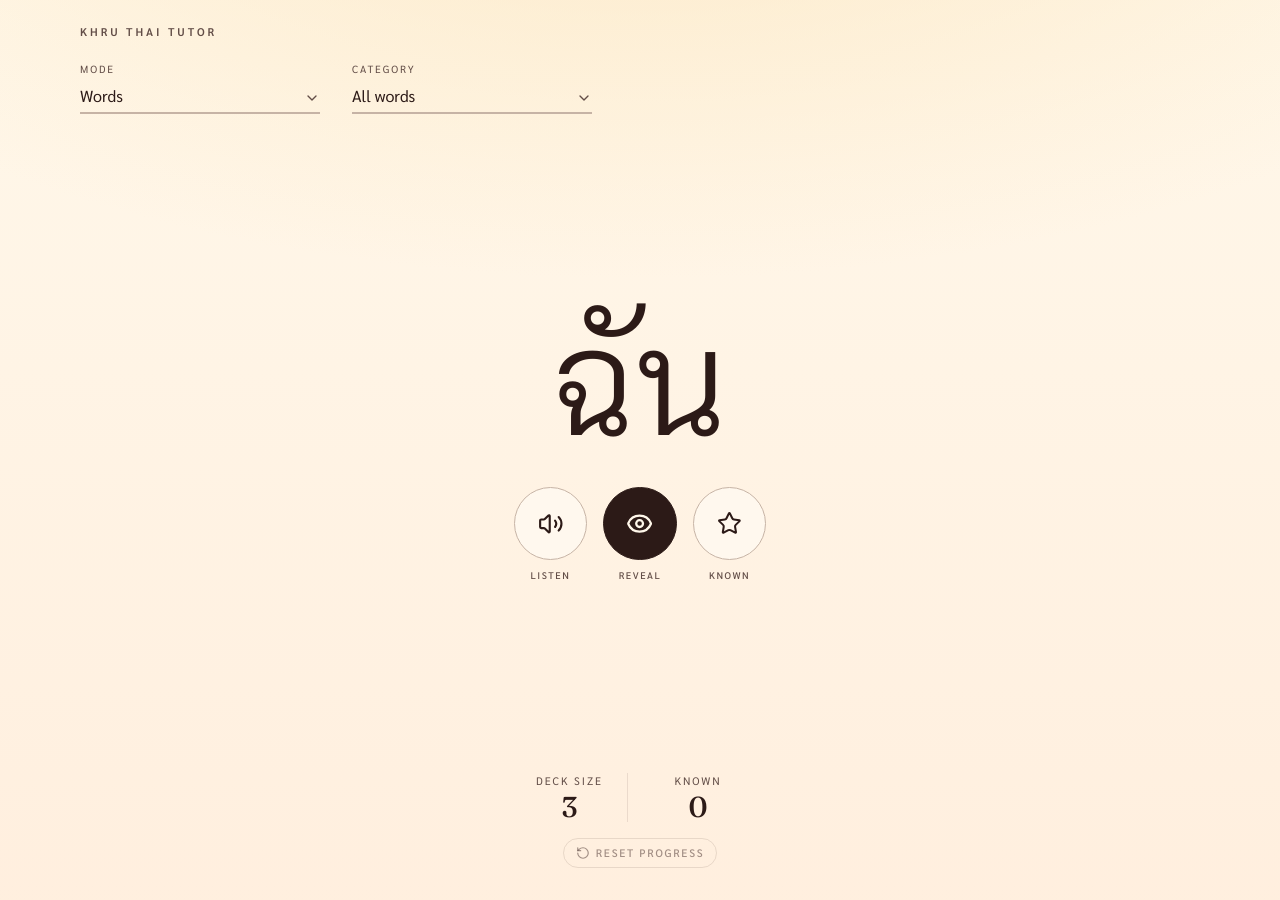
Test: App › keeps progress isolated between study modes
The width and height of the screenshot is (1280, 900).
Click the button named "mark as mastered" at (730, 524), box x1=693 y1=487 x2=766 y2=560
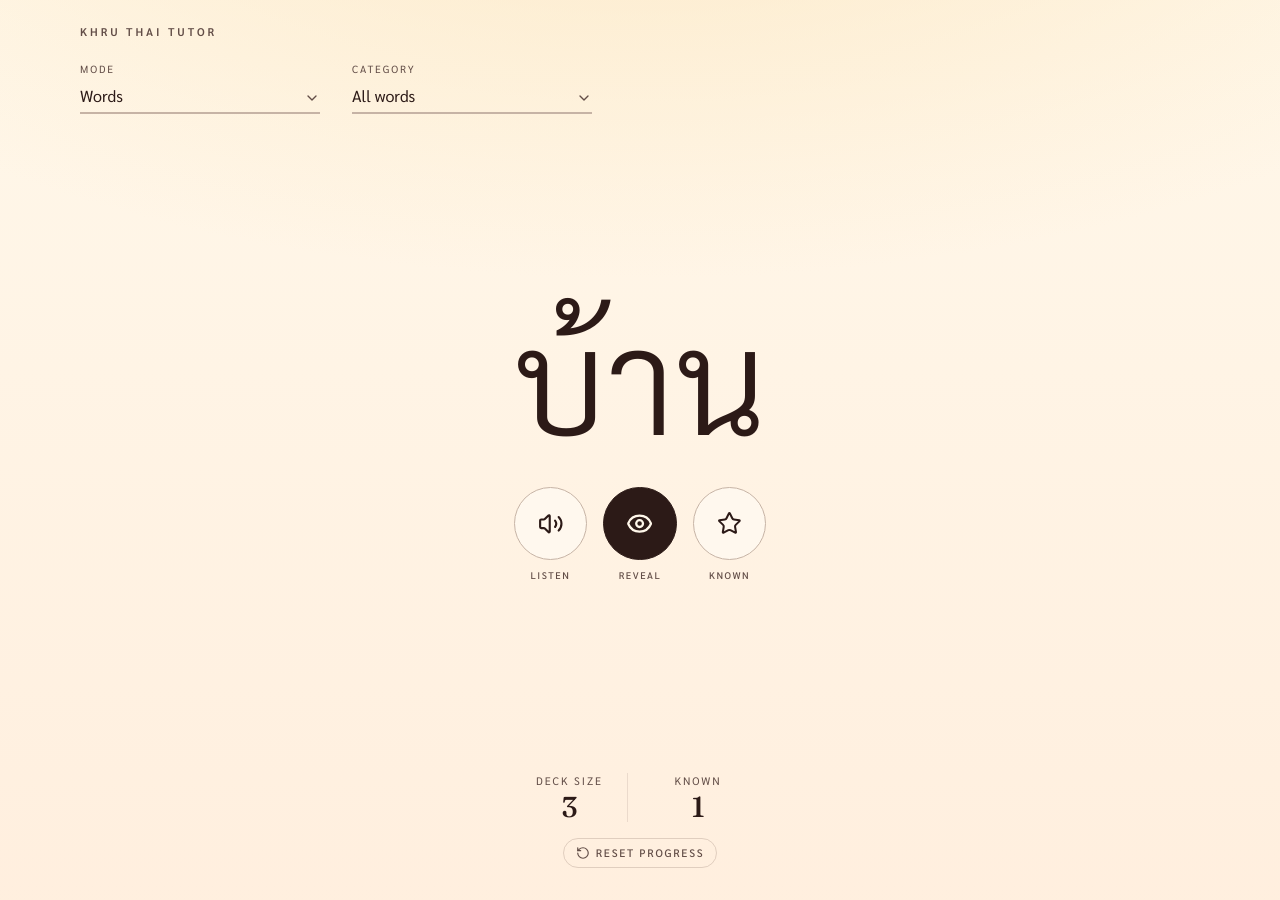
Check: the text with test id "known-count" reads "1", box x1=691 y1=789 x2=705 y2=824
Select "Conversation" in the dropdown named "study mode" at (200, 97), box x1=80 y1=80 x2=320 y2=114
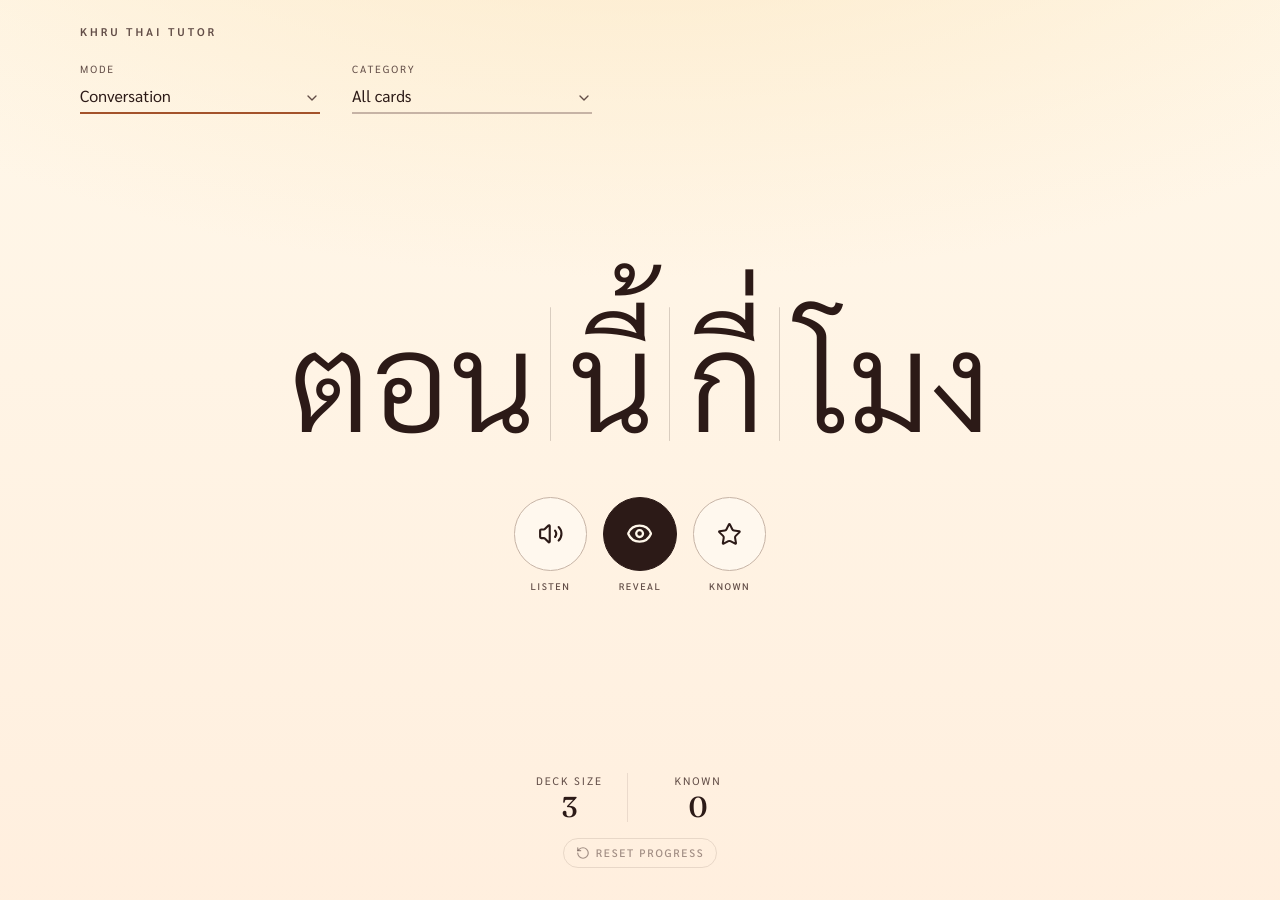
Check: the text with test id "known-count" reads "0", box x1=688 y1=789 x2=708 y2=824
Click the button named "mark as mastered" at (730, 534), box x1=693 y1=497 x2=766 y2=571
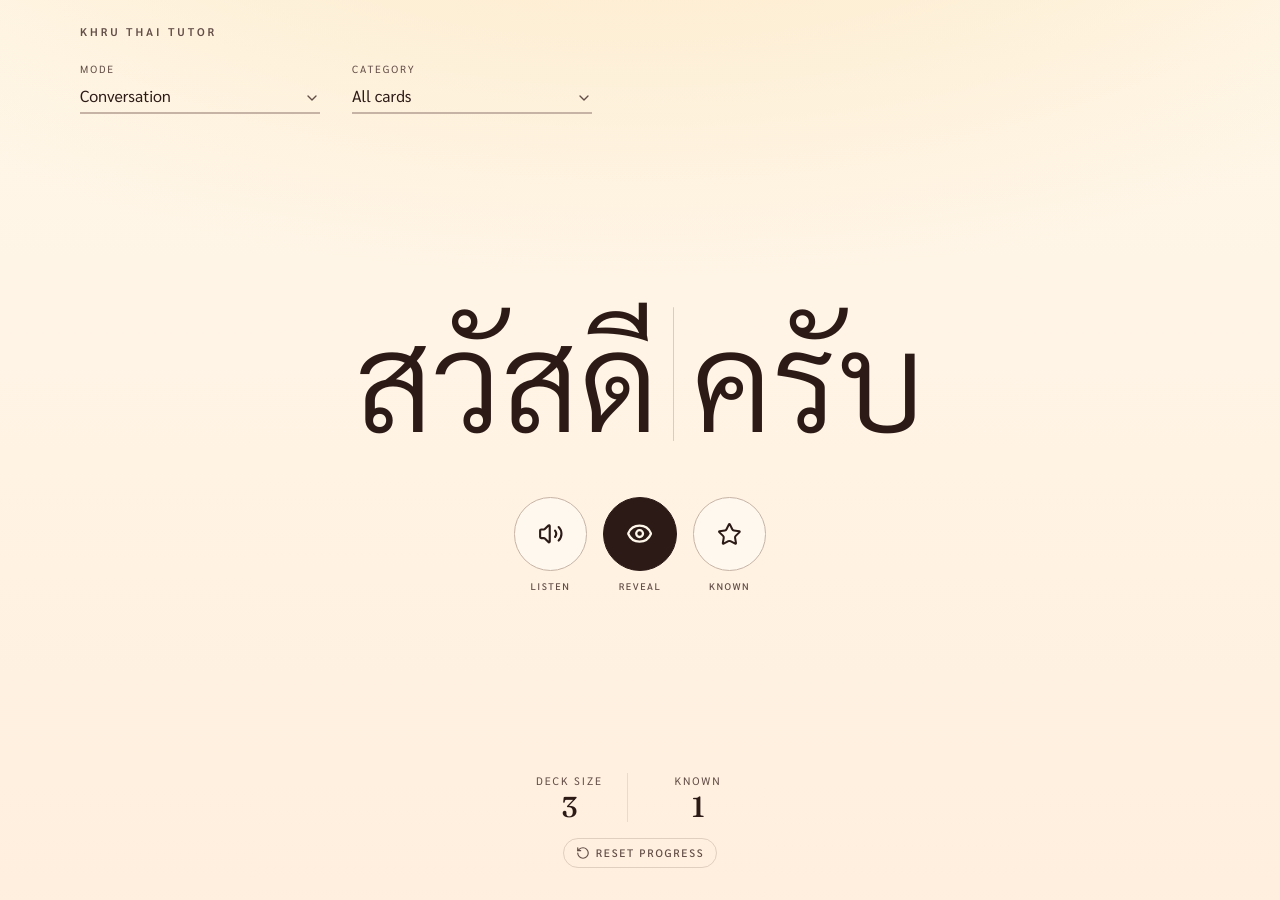
Check: the text with test id "known-count" reads "1", box x1=691 y1=789 x2=705 y2=824
Select "Words" in the dropdown named "study mode" at (200, 97), box x1=80 y1=80 x2=320 y2=114
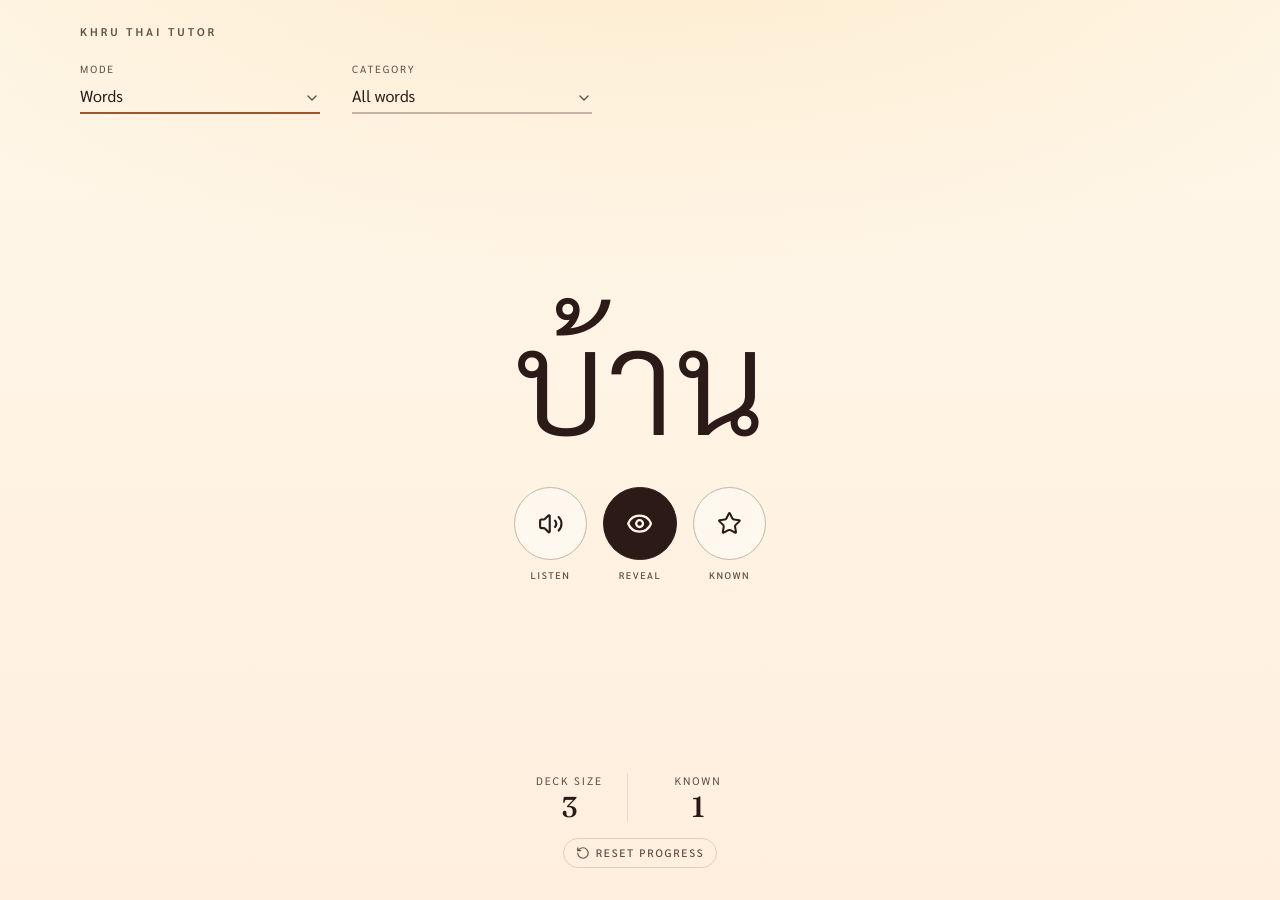
Check: the text with test id "known-count" reads "1", box x1=691 y1=789 x2=705 y2=824
Check: the text "บ้าน" is shown, box x1=514 y1=296 x2=766 y2=455
